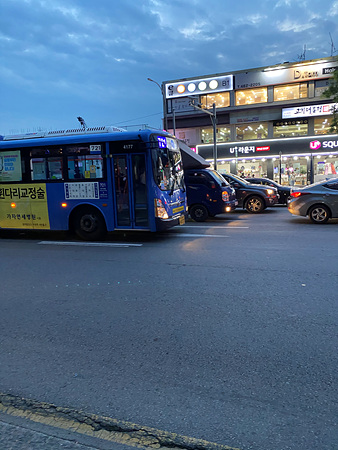entrance: (111, 151, 156, 228)
